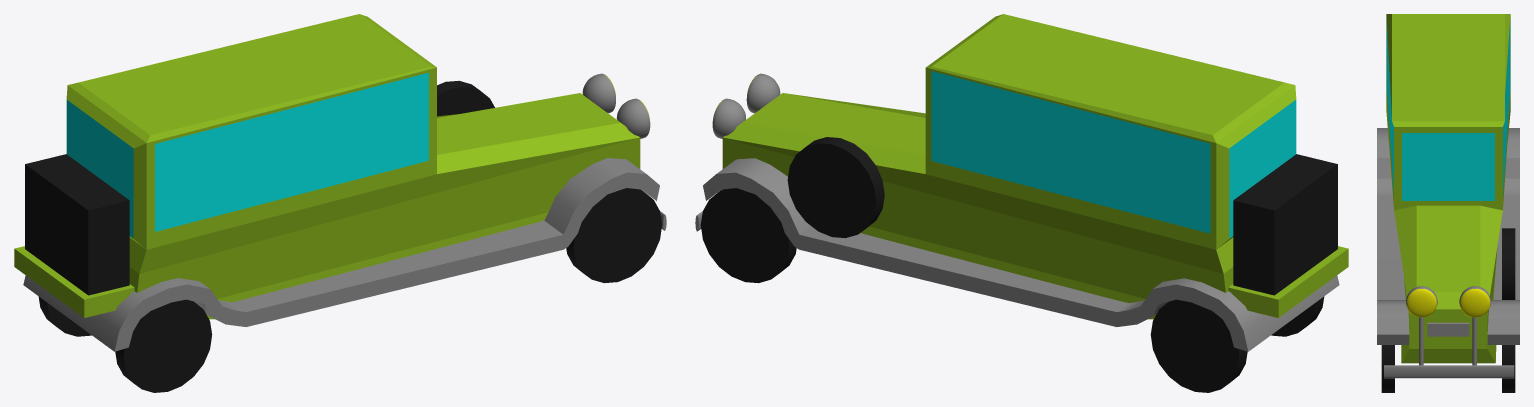
Rendered from car.fbx.
The picture shows the model from 3 angles, left to right: view 1: azimuth 30°, elevation 25°; view 2: azimuth 150°, elevation 25°; view 3: azimuth 270°, elevation 25°; orthographic projection. The views are drawn at different scales.
Visible parts, largest first — view 1: pCube1, pCube4, pCube2, pCylinder1, pCylinder4, pCube3, pCylinder6, pSphere2, pSphere1, pCylinder3; view 2: pCube1, pCube4, pCube2, pCylinder6, pCylinder2, pCylinder3, pCube3, pSphere1, pSphere2, pCylinder4; view 3: pCube1, pCube4, pCylinder5, pCylinder6, pSphere1, pSphere2, pCube5, pCylinder1, pCylinder2, pasted__pCylinder5 (×2).
Part boxes in pixels (x1,y1,x2,y2): pCube1: [66, 14, 640, 319]; pCube4: [23, 158, 659, 351]; pCube2: [25, 154, 129, 295]; pCylinder1: [566, 188, 661, 283]; pCylinder4: [115, 299, 212, 392]; pCube3: [14, 246, 134, 317]; pCylinder6: [437, 80, 494, 116]; pSphere2: [616, 98, 650, 138]; pSphere1: [582, 73, 615, 113]; pCylinder3: [38, 296, 91, 336]; pCube1: [722, 14, 1296, 319]; pCube4: [703, 158, 1339, 351]; pCube2: [1233, 154, 1337, 295]; pCylinder6: [787, 137, 884, 238]; pCylinder2: [700, 188, 796, 283]; pCylinder3: [1150, 299, 1247, 392]; pCube3: [1228, 246, 1348, 317]; pSphere1: [712, 98, 745, 138]; pSphere2: [746, 73, 780, 113]; pCylinder4: [1271, 296, 1324, 336]; pCube1: [1386, 14, 1510, 363]; pCube4: [1377, 128, 1519, 344]; pCylinder5: [1384, 365, 1514, 378]; pCylinder6: [1502, 228, 1515, 299]; pSphere1: [1459, 286, 1490, 317]; pSphere2: [1406, 286, 1437, 317]; pCube5: [1427, 322, 1469, 336]; pCylinder1: [1381, 345, 1394, 392]; pCylinder2: [1502, 345, 1515, 392]; pasted__pCylinder5 (×2): [1419, 317, 1476, 365].
Bounding box in the file's own units: 3.91 × 1.64 × 1.07.
